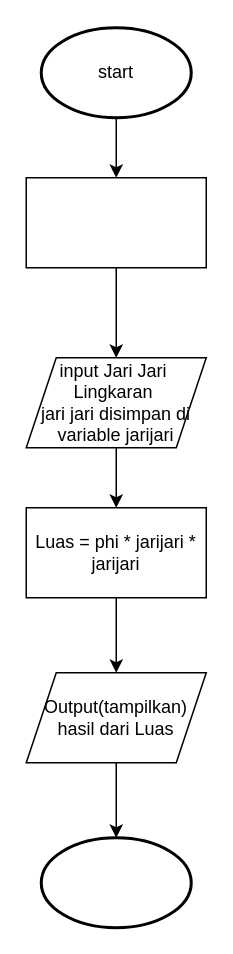
Image size: 233x954. Some labels were removed from this diagram. The centre of each missing label's shape, as x and y in pixels:
"end" belongs at (x=115, y=882).
"float phi = 3.14 float jarijari,luas" belongs at (x=115, y=222).
